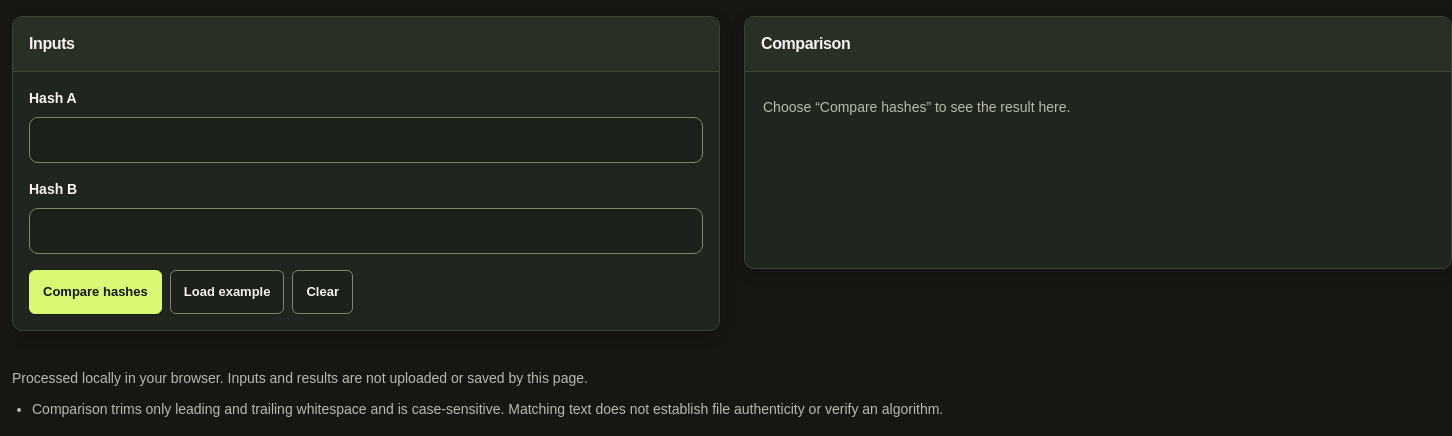
Test: Security dark DOM theme (not visual proof) › hash-compare has only contracted controls, keyboard actions, exact copies and no transmission
Press Tab
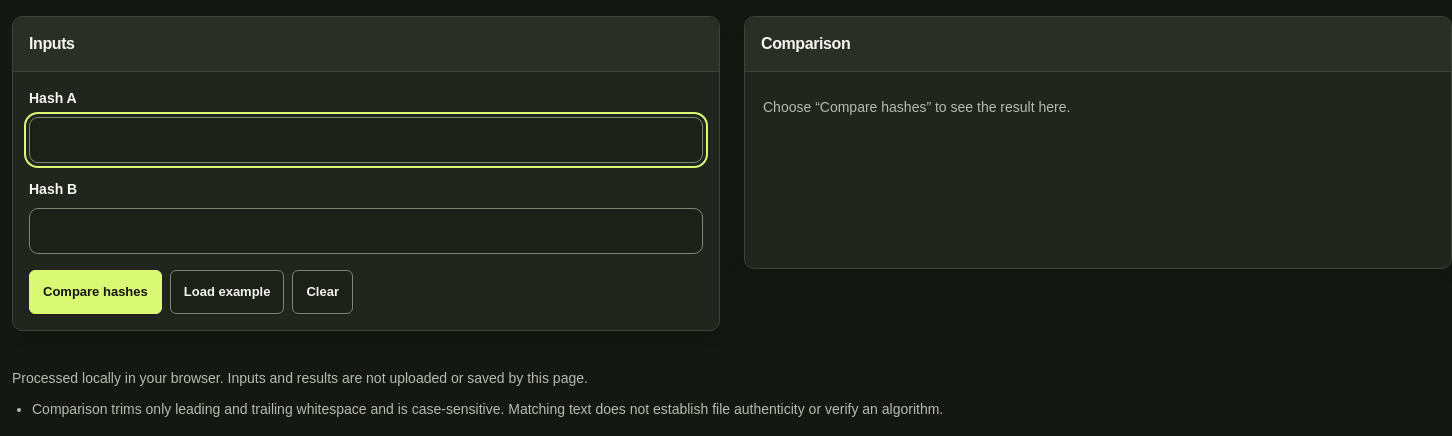
Click the button "Load example" at (227, 292), box [170,270,284,314]
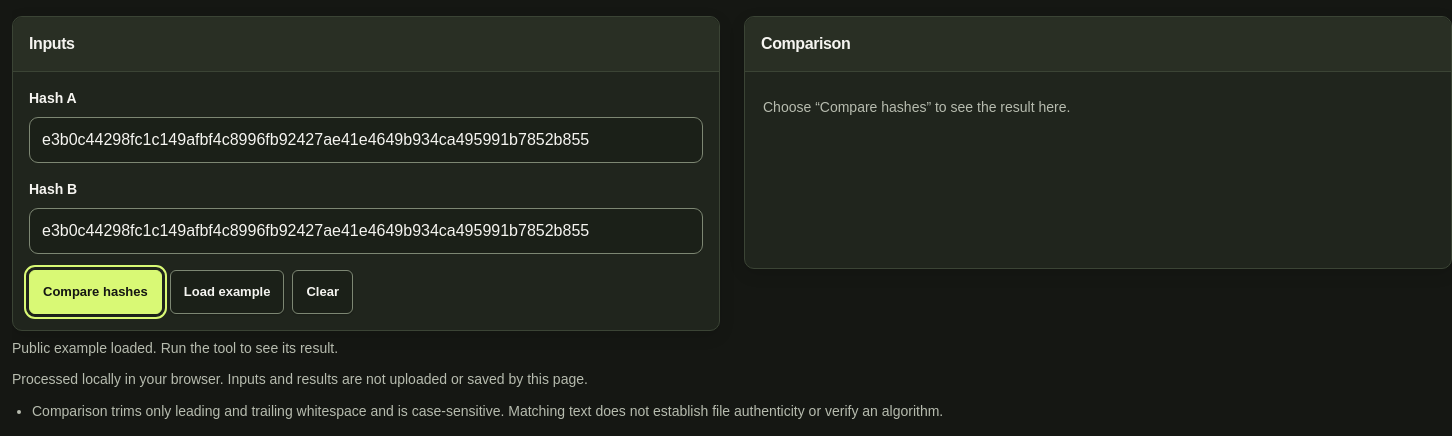
Press Enter
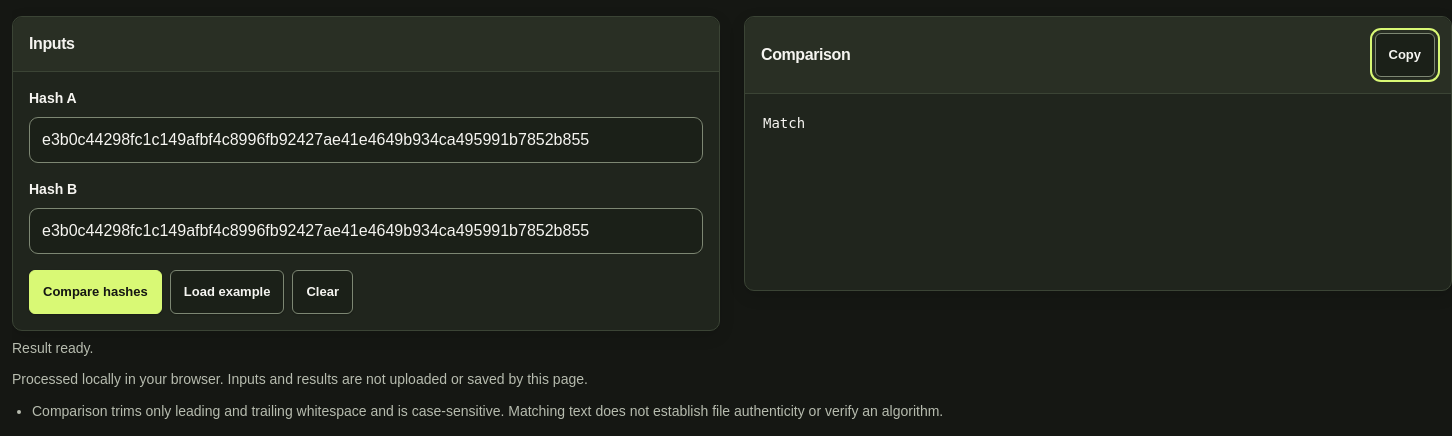
Press Enter
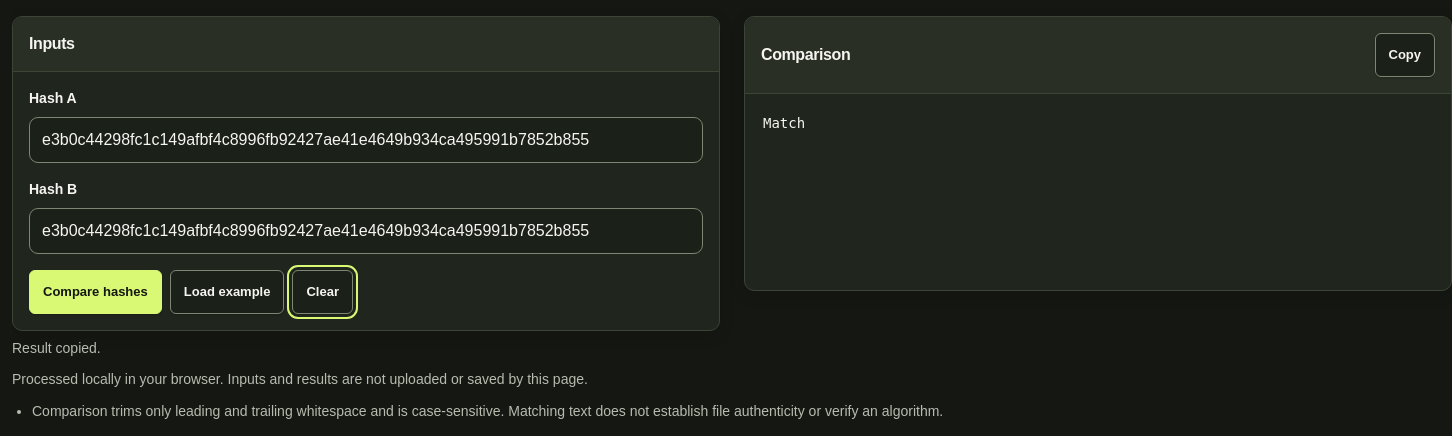
Press Enter
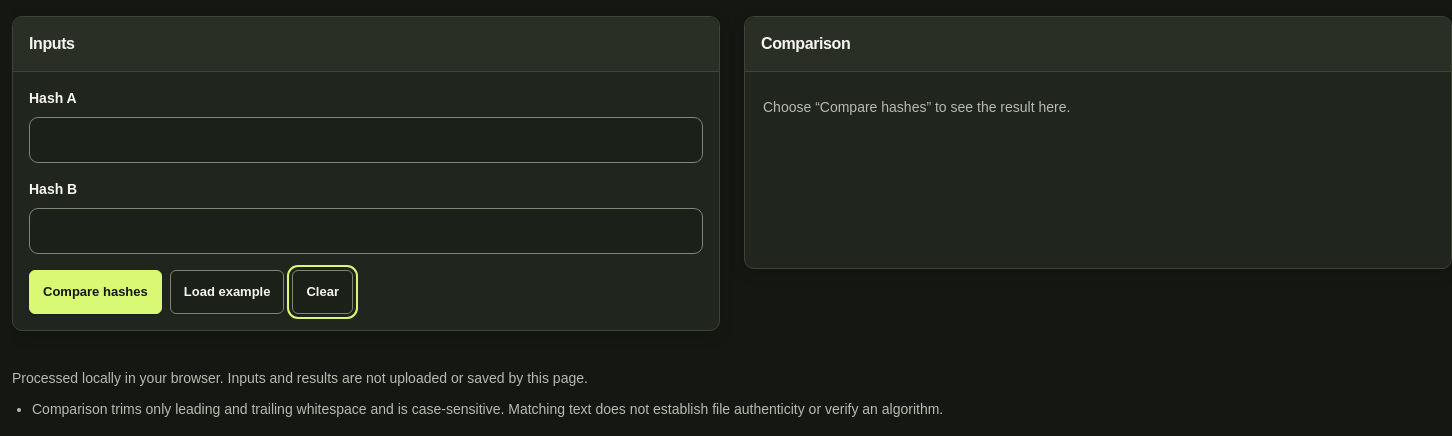
Expected: the field labelled "Hash A" is empty, [29,117,703,163]
Expected: the field labelled "Hash B" is empty, [29,208,703,254]
Expected: the button "Copy" is gone
